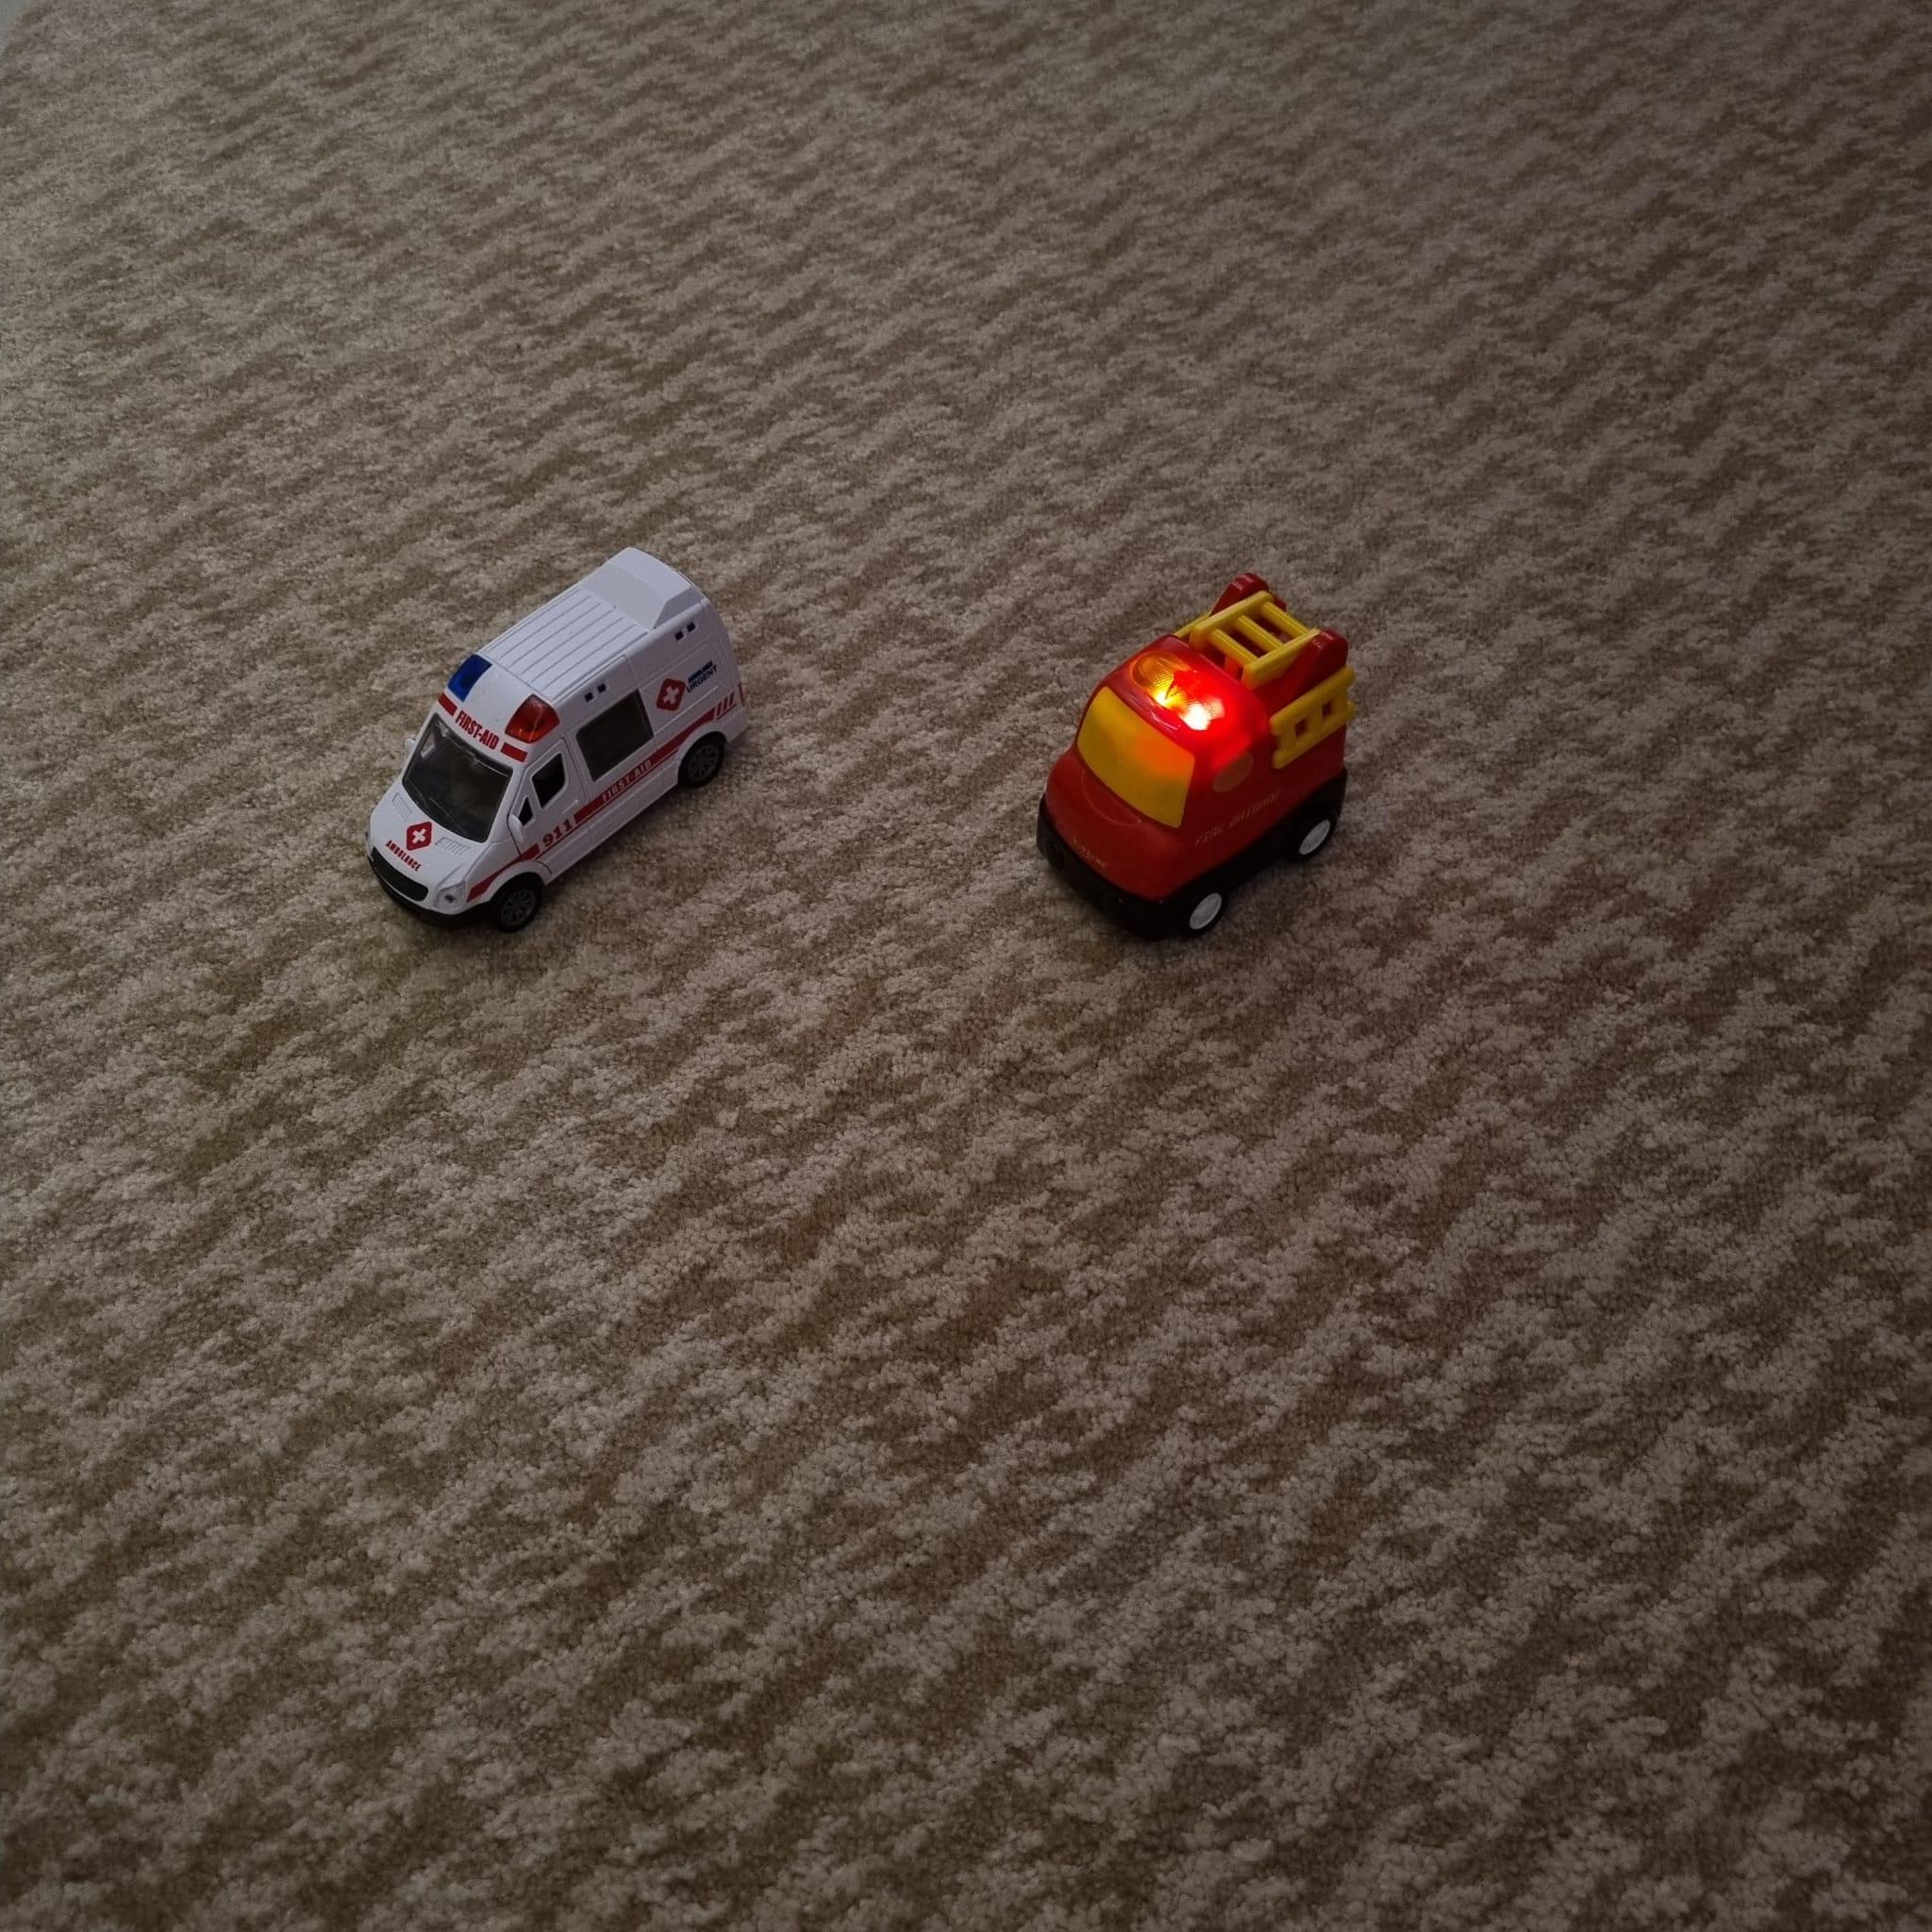ambulance_off: (361, 543, 750, 938)
firetruck_on: (1033, 571, 1346, 936)
